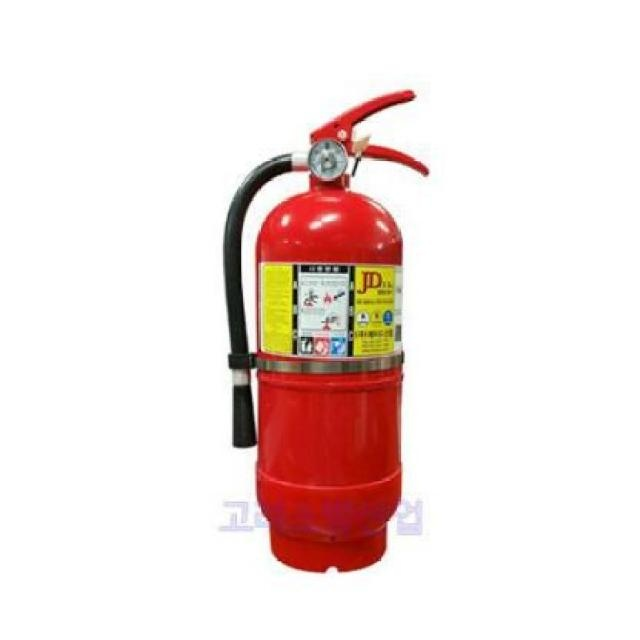fire extinguisher: (221, 88, 430, 574)
